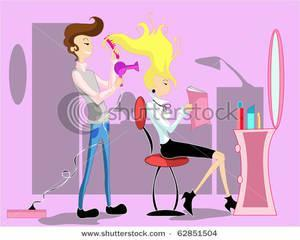bottle: (234, 98, 244, 131)
chair: (132, 94, 190, 221)
person: (130, 18, 234, 217), (54, 16, 127, 219)
